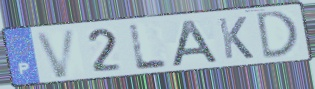2: (86, 27, 123, 74)
A: (170, 18, 222, 68)
D: (255, 9, 301, 62)
K: (216, 15, 256, 61)
L: (127, 22, 171, 72)
V: (33, 27, 79, 80)
